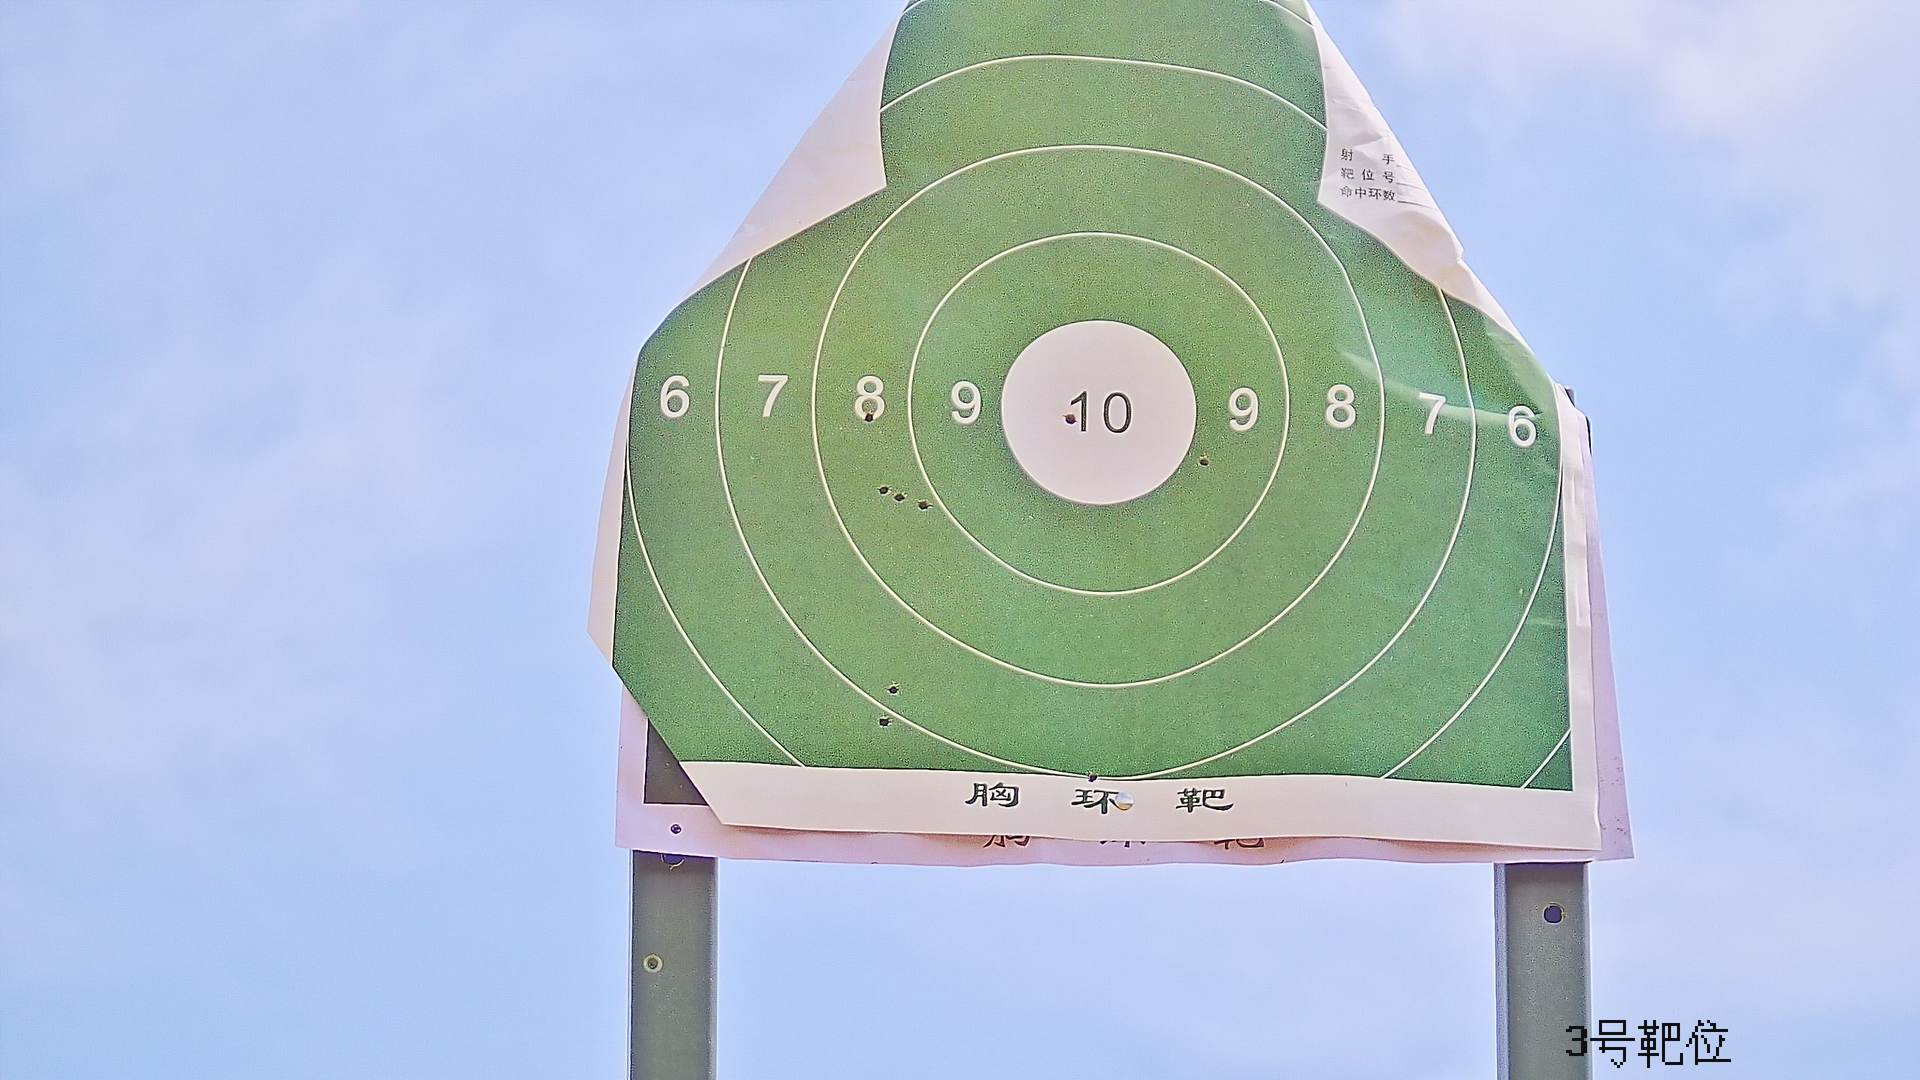hole: (918, 498, 932, 512), (1063, 411, 1077, 423), (862, 411, 876, 421), (880, 483, 889, 495), (894, 493, 906, 502), (878, 715, 887, 727), (1197, 458, 1209, 467), (887, 684, 897, 694), (1088, 773, 1097, 782)
kernel: (1096, 413, 1098, 417)
target: (617, 5, 1582, 796)
ten: (996, 322, 1197, 505)
